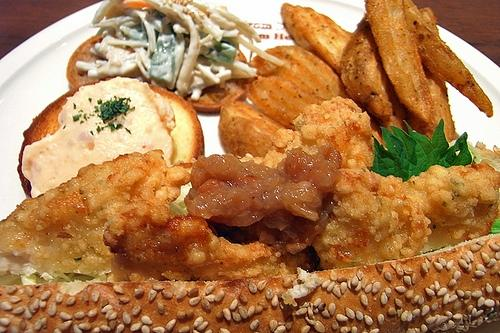potato: (288, 5, 409, 135), (247, 45, 386, 148), (404, 0, 494, 118), (366, 0, 436, 124), (339, 12, 392, 118), (218, 101, 290, 159)
